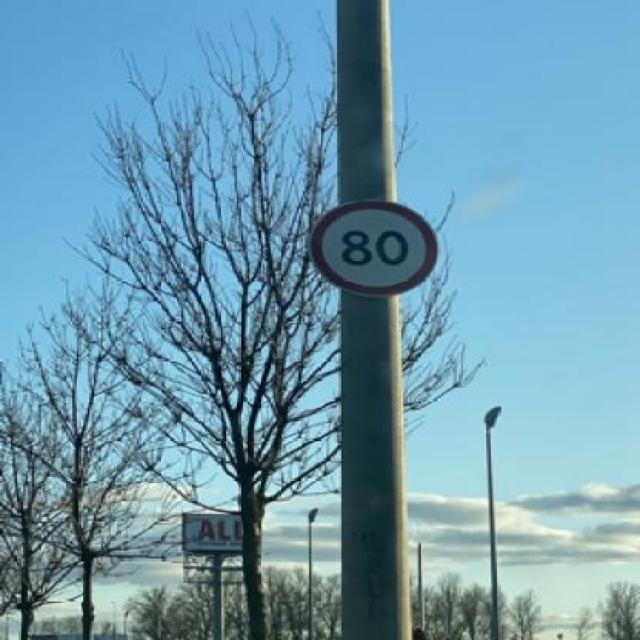forb_speed_over_80: (315, 200, 442, 298)
